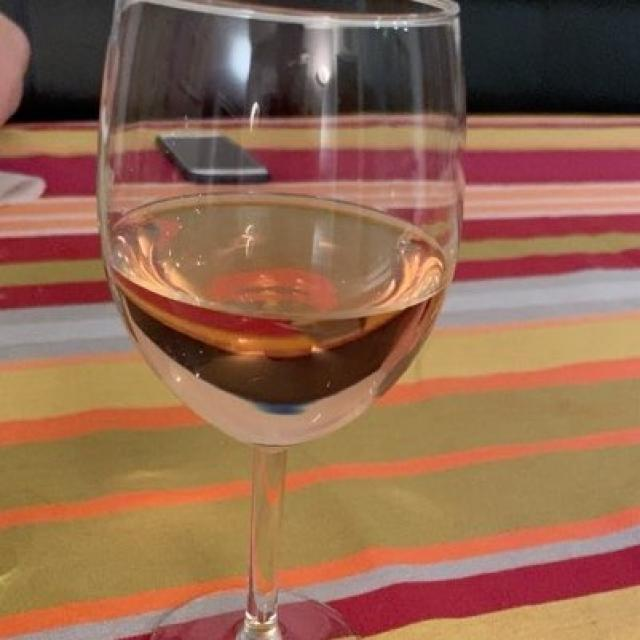wine: (113, 196, 449, 427)
